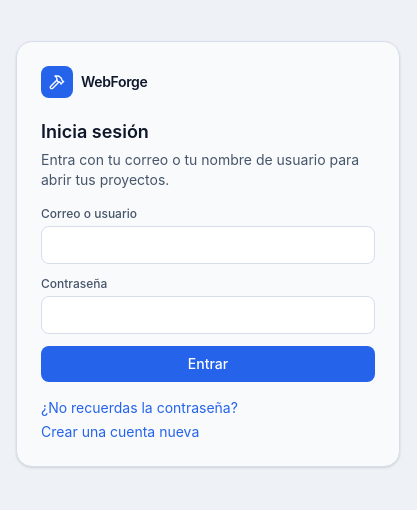
Test: LoginPage › muestra el aviso del servidor y se queda en la pantalla
The image size is (417, 510).
Type "ana@dominio.dev" into the field labelled "Correo o usuario" at (208, 245), box [41, 226, 375, 264]
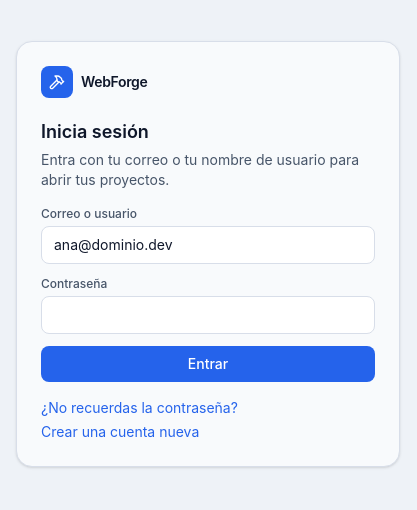
Type "corta" into the password field labelled "Contraseña" at (208, 315), box [41, 296, 375, 334]
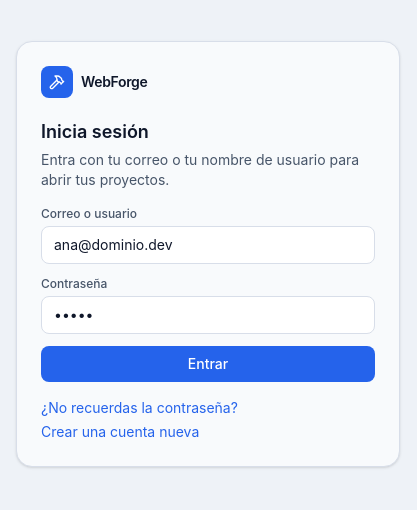
Submit the form named "Inicia sesión", box [41, 206, 375, 382]
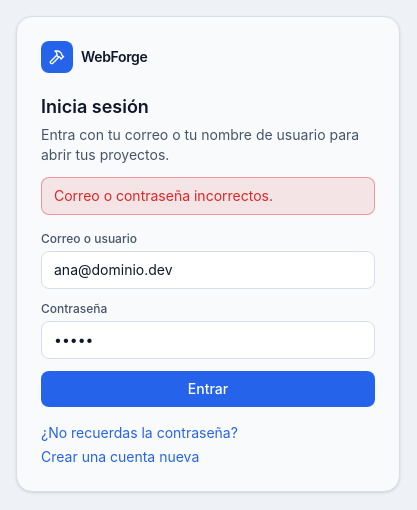
Now the message reads "Correo o contraseña incorrectos.", box [54, 187, 273, 204]
